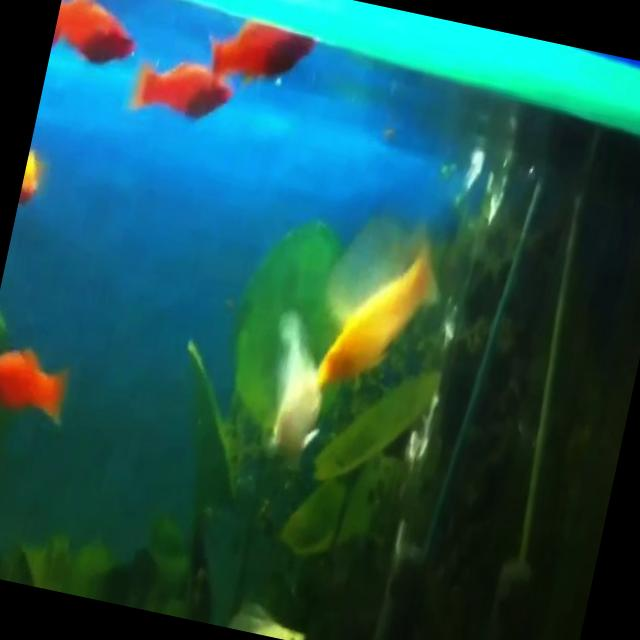PlatyFish: (298, 194, 459, 418), (124, 49, 244, 140), (48, 0, 147, 77), (0, 337, 78, 428)
